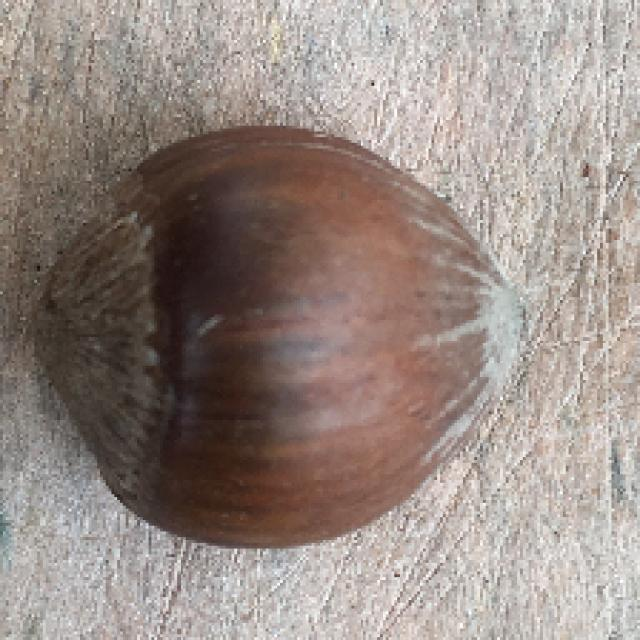DamagedHazelnut: (21, 120, 526, 553)
